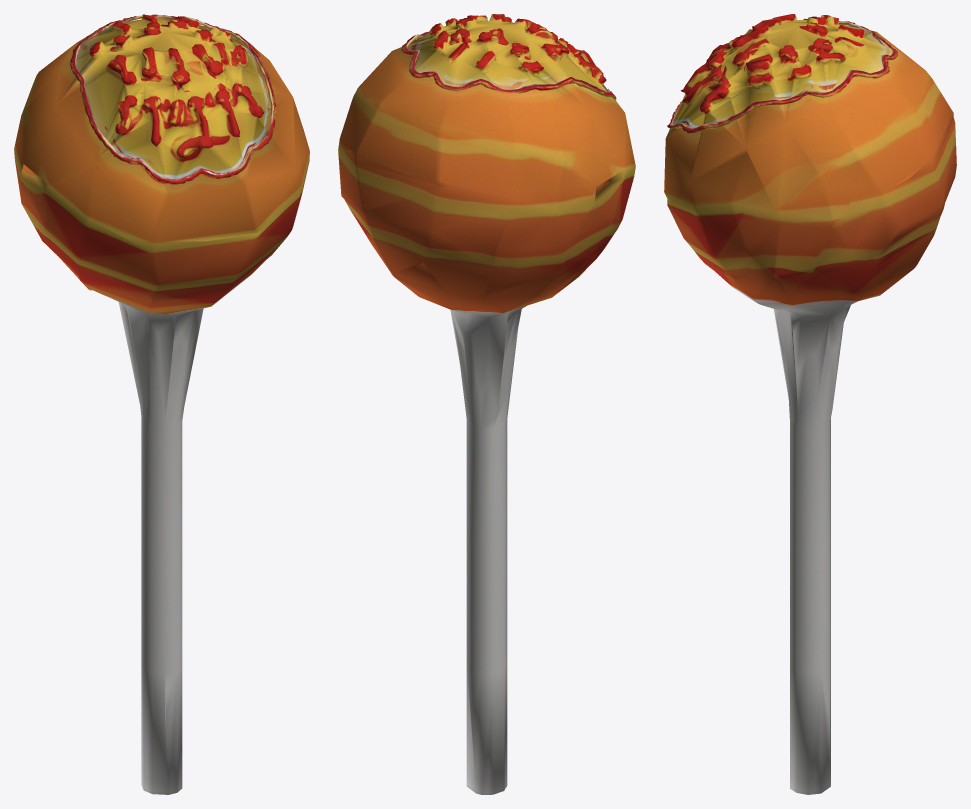
Rendered from level1_candy_lego.glb.
The picture shows the model from 3 angles, left to right: view 1: azimuth 30°, elevation 25°; view 2: azimuth 150°, elevation 25°; view 3: azimuth 270°, elevation 25°; orthographic projection.
Parts seen in each view (by area): view 1: tripo_node_18a3769b-fae5-4924-961e-4a54e0b57959; view 2: tripo_node_18a3769b-fae5-4924-961e-4a54e0b57959; view 3: tripo_node_18a3769b-fae5-4924-961e-4a54e0b57959.
Part boxes in pixels (left/top/right/bottom): tripo_node_18a3769b-fae5-4924-961e-4a54e0b57959: left=14, top=14, right=309, bottom=794; tripo_node_18a3769b-fae5-4924-961e-4a54e0b57959: left=338, top=14, right=635, bottom=794; tripo_node_18a3769b-fae5-4924-961e-4a54e0b57959: left=664, top=14, right=956, bottom=794.
Bounding box in the file's own units: 0.3496 × 0.998 × 0.3496.
Materials: 1 (1 with a texture image).
